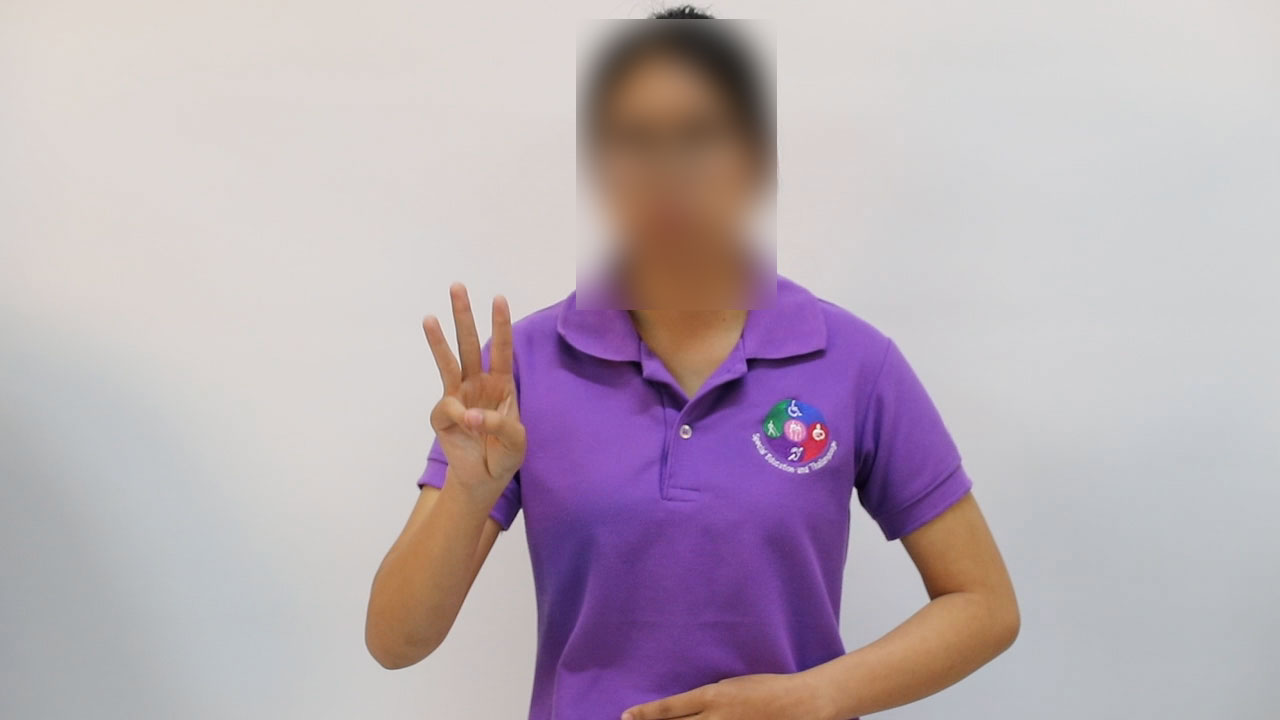wor: (413, 276, 532, 515)
